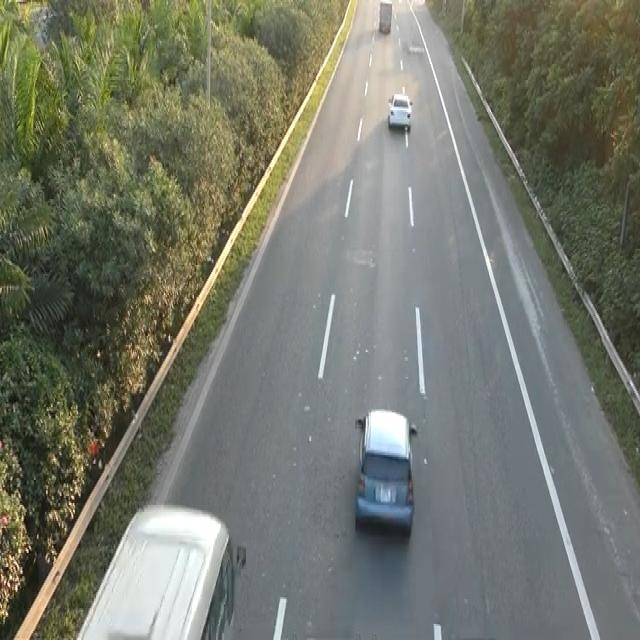bus: (386, 87, 413, 130)
jeep: (74, 498, 244, 636)
lorry: (351, 404, 420, 542)
